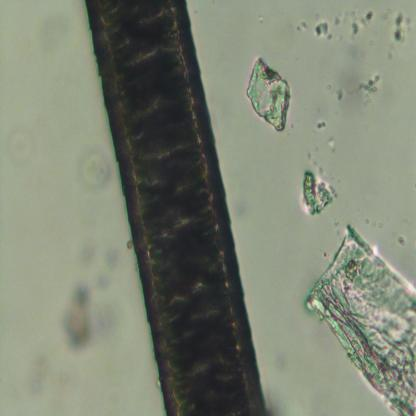Background material: (301, 221, 416, 415), (60, 240, 124, 355), (247, 55, 291, 134), (304, 169, 337, 216), (80, 146, 109, 195), (330, 71, 360, 117), (333, 7, 373, 38), (9, 126, 36, 164), (358, 74, 382, 108), (392, 10, 412, 46), (232, 191, 249, 225), (314, 21, 333, 42), (300, 149, 315, 166), (326, 138, 336, 155), (396, 234, 407, 248), (317, 120, 326, 133)
Hair: (82, 0, 270, 414)
